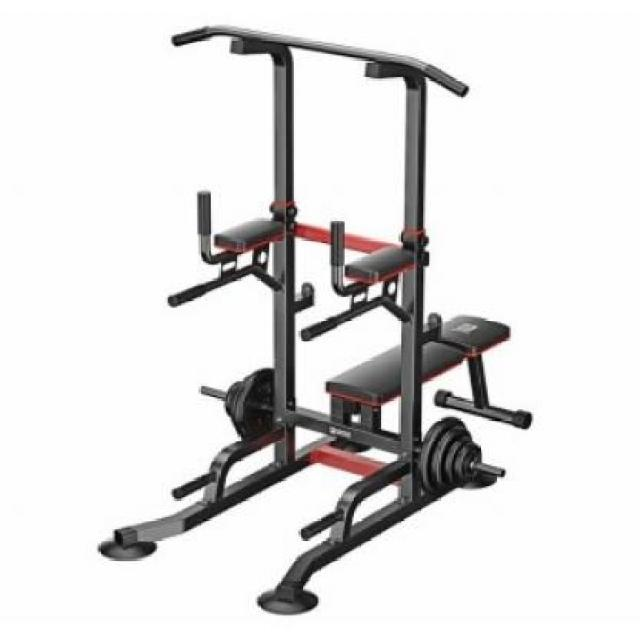chinning dipping: (100, 24, 466, 618)
